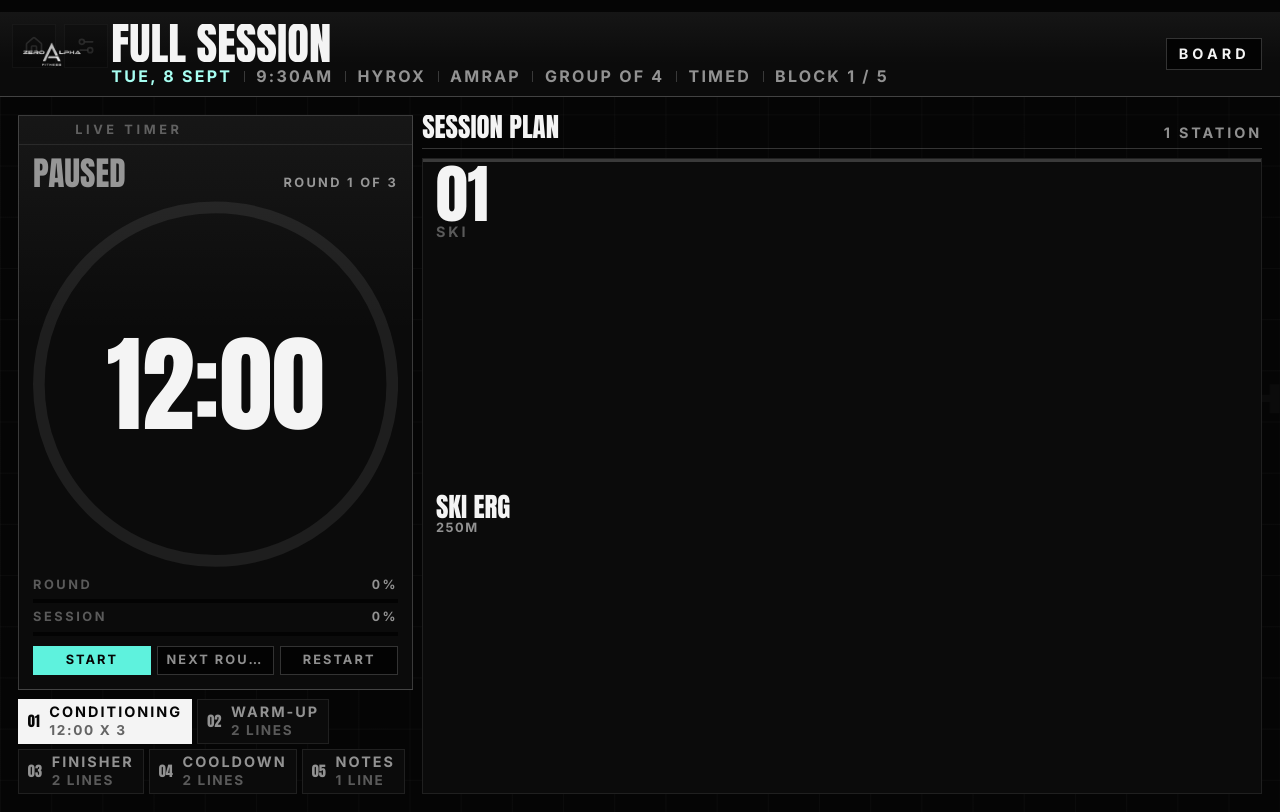
Test case: WODDisplay hierarchy › puts every free-text block kind on the board
Click the button "02 Warm-up 2 lines" at (263, 722), box [197, 699, 329, 744]
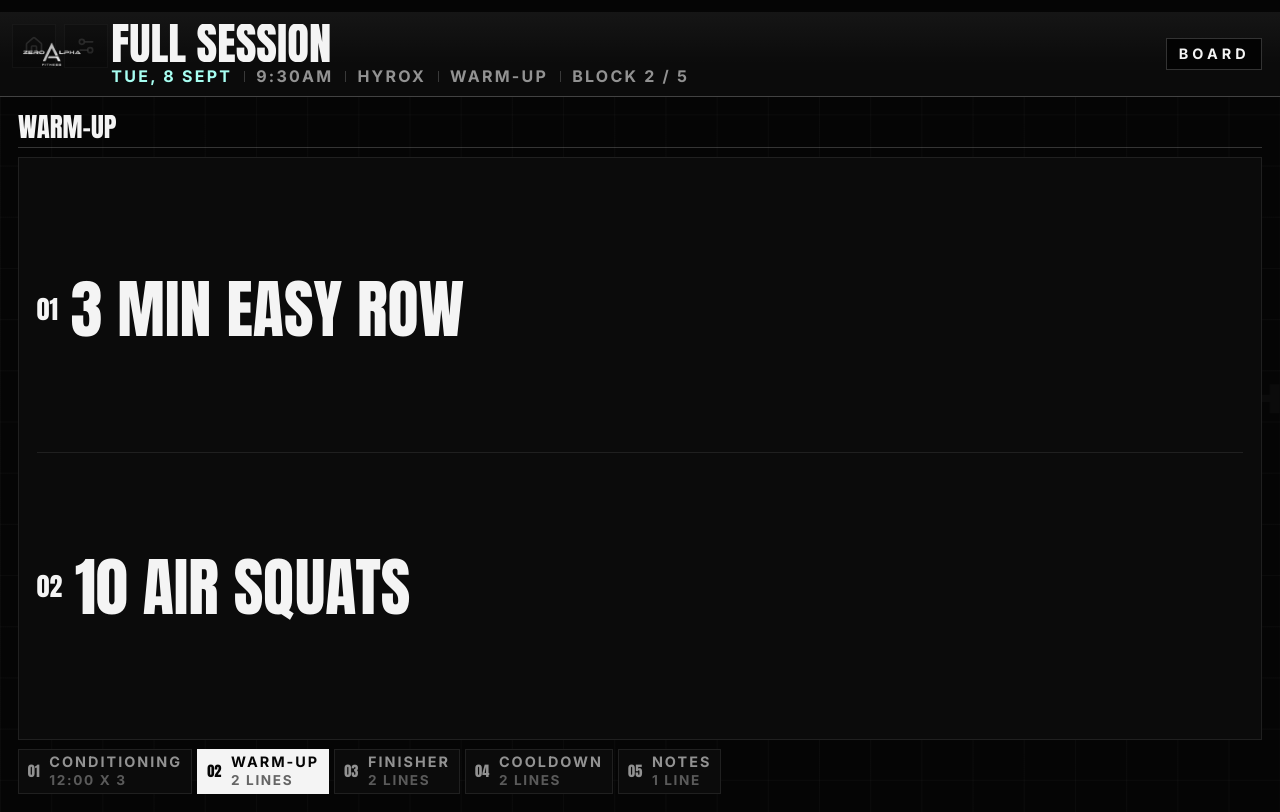
Now the text "3 min easy row" is shown, box [71, 276, 464, 344]
Click the button "03 Finisher 2 lines" at (397, 772), box [334, 749, 460, 794]
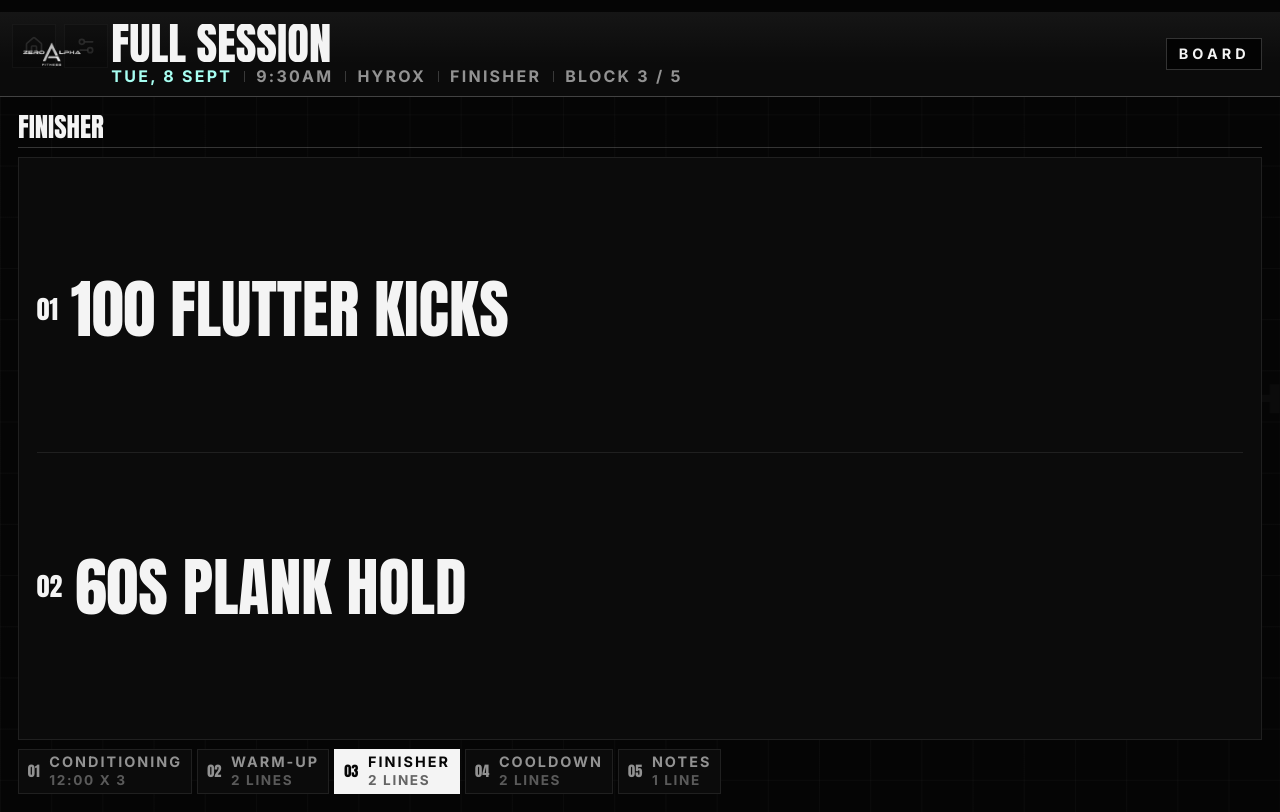
Now the text "100 flutter kicks" is shown, box [71, 276, 509, 344]
Click the button "04 Cooldown 2 lines" at (539, 772), box [465, 749, 613, 794]
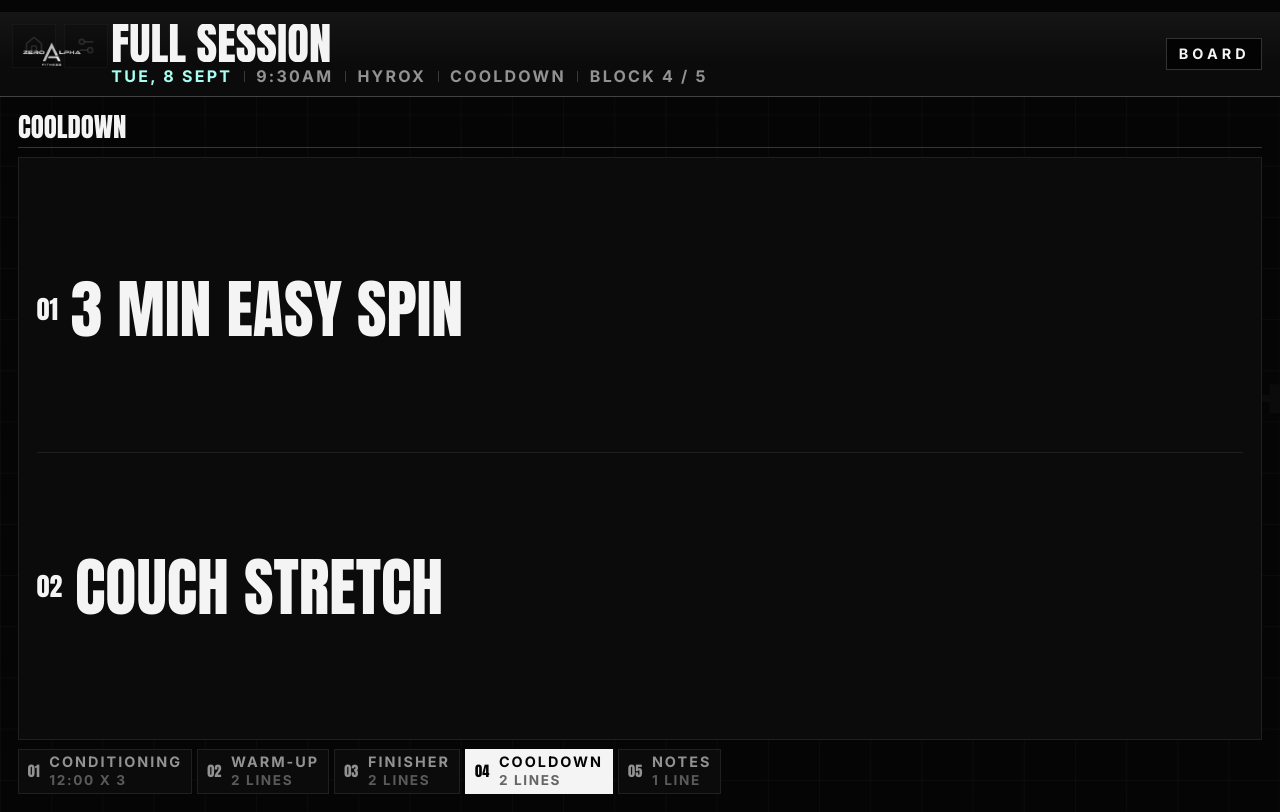
Now the text "3 min easy spin" is shown, box [71, 276, 463, 344]
Click the button "05 Notes 1 line" at (670, 772), box [618, 749, 721, 794]
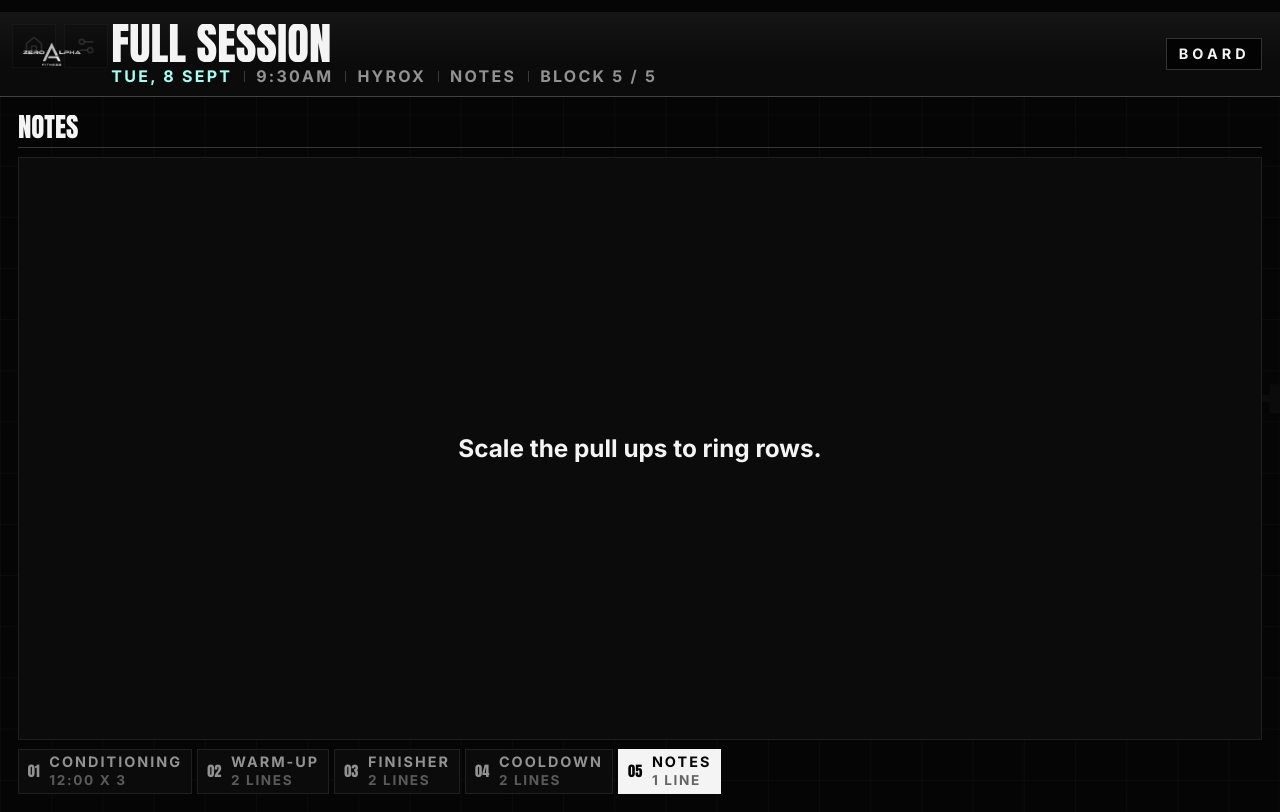
Now the text "Scale the pull ups to ring rows." is shown, box [458, 432, 822, 465]
